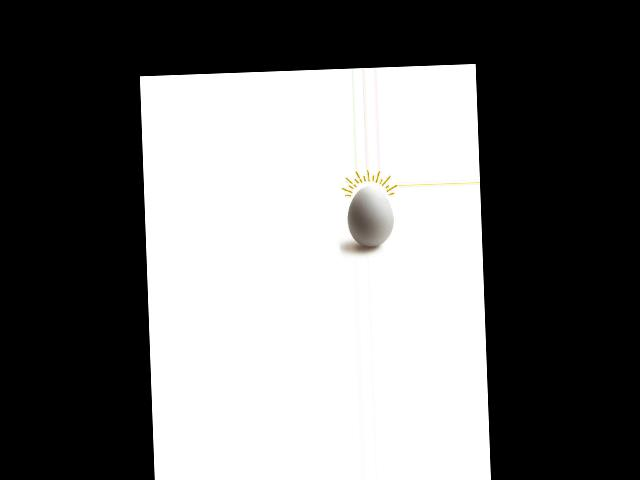egg: (346, 185, 395, 247)
